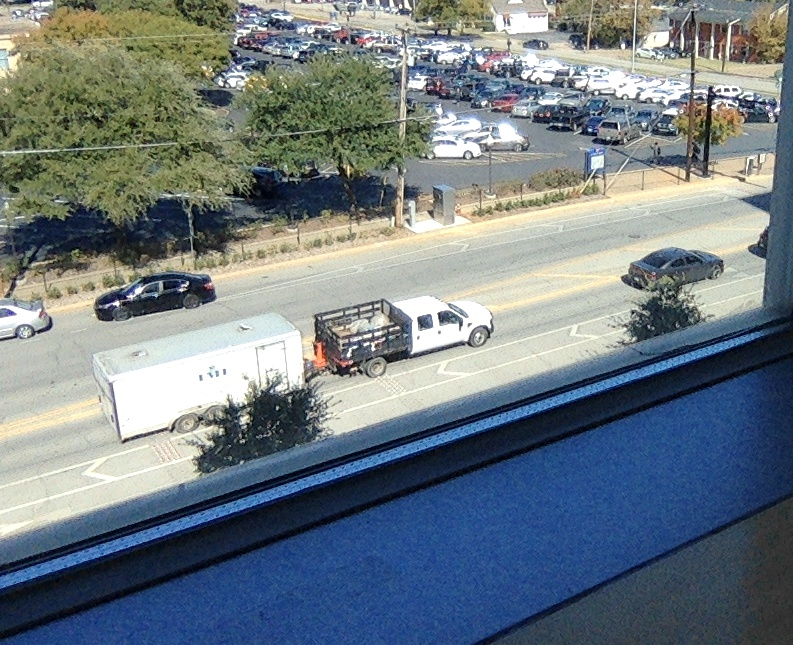car: (300, 300, 493, 381)
